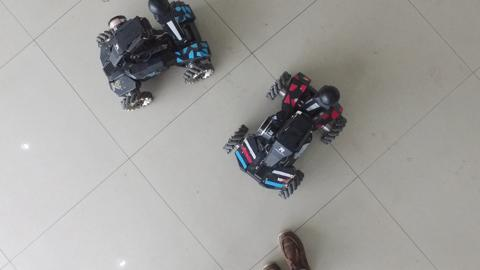chariot: (218, 65, 352, 202), (83, 1, 219, 118)
